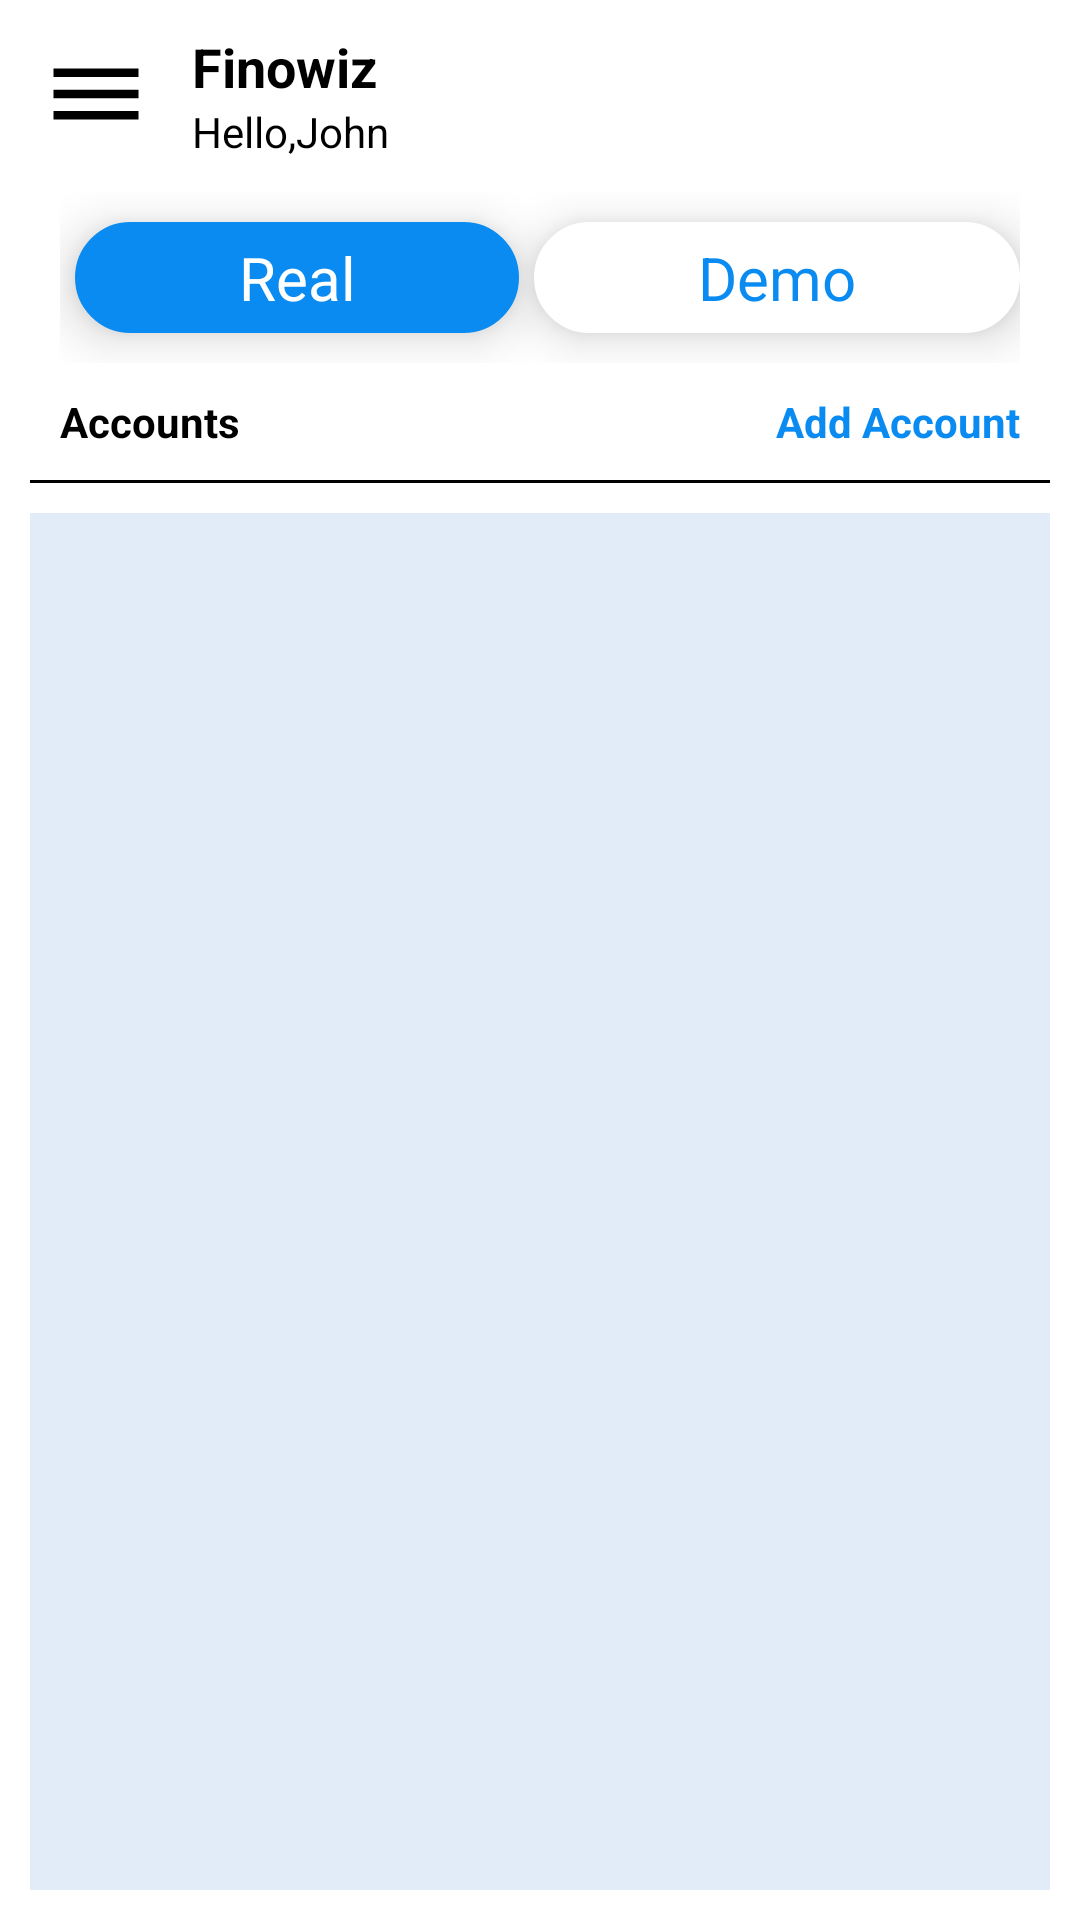

Where icons sit on this 1080×1920 app screen, as (x1, y1, x2, y2):
hang burger: (53, 68, 139, 120)
